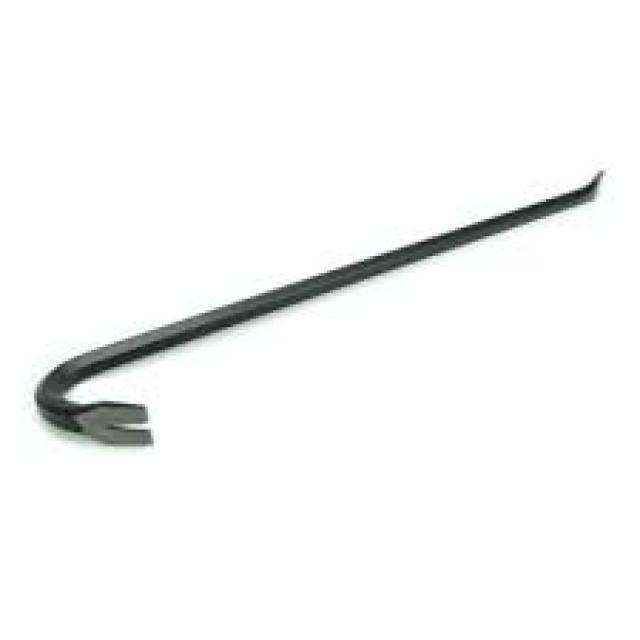Linggis: (21, 155, 608, 454)
